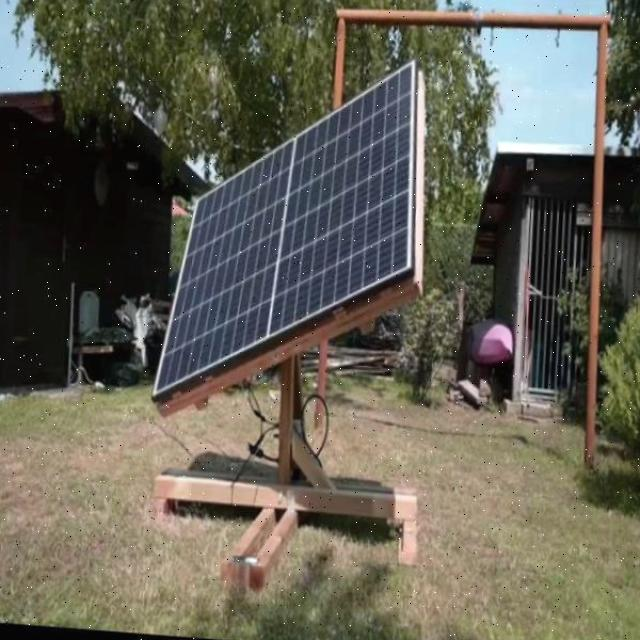Normal Solar Panel: (152, 46, 432, 416)
